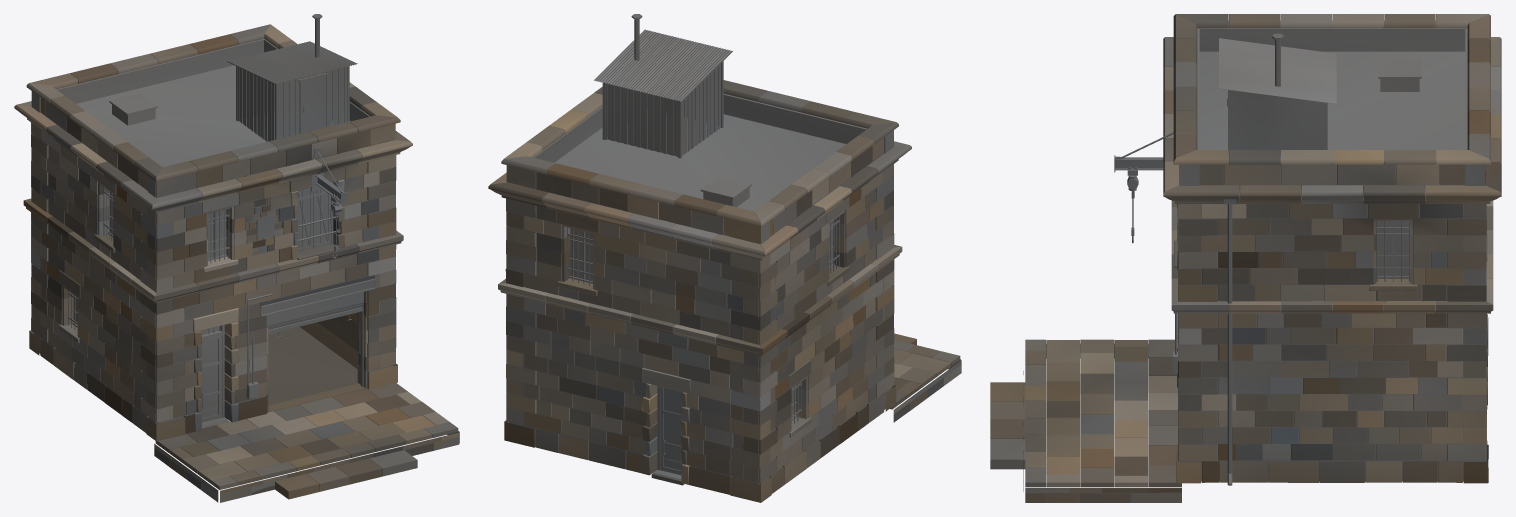
Rendered from Salvage_LOD1.glb.
The picture shows the model from 3 angles, left to right: view 1: azimuth 30°, elevation 25°; view 2: azimuth 150°, elevation 25°; view 3: azimuth 270°, elevation 25°; orthographic projection. The views are drawn at different scales.
Visible parts, largest first — view 1: Salvage_Masonry_LOD1, Salvage_Trim_LOD1, Salvage_Porch_LOD1, Salvage_Metal_LOD1, Salvage_Roof_LOD1, Salvage_InteriorFloor_LOD1, Salvage_InteriorMasonry_LOD1, Salvage_Glass_LOD1; view 2: Salvage_Masonry_LOD1, Salvage_Trim_LOD1, Salvage_Roof_LOD1, Salvage_Metal_LOD1, Salvage_Porch_LOD1, Salvage_Glass_LOD1; view 3: Salvage_Masonry_LOD1, Salvage_Trim_LOD1, Salvage_Porch_LOD1, Salvage_Roof_LOD1, Salvage_Metal_LOD1, Salvage_Glass_LOD1.
Boxes of the visible parts, left/top/right/bottom form: Salvage_Masonry_LOD1: left=29, top=38, right=397, bottom=441; Salvage_Trim_LOD1: left=14, top=24, right=412, bottom=431; Salvage_Porch_LOD1: left=154, top=383, right=459, bottom=502; Salvage_Metal_LOD1: left=68, top=14, right=375, bottom=426; Salvage_Roof_LOD1: left=76, top=41, right=357, bottom=167; Salvage_InteriorFloor_LOD1: left=225, top=326, right=358, bottom=418; Salvage_InteriorMasonry_LOD1: left=300, top=312, right=360, bottom=383; Salvage_Glass_LOD1: left=73, top=191, right=226, bottom=334; Salvage_Masonry_LOD1: left=504, top=93, right=896, bottom=502; Salvage_Trim_LOD1: left=488, top=80, right=911, bottom=484; Salvage_Roof_LOD1: left=554, top=29, right=846, bottom=211; Salvage_Metal_LOD1: left=551, top=14, right=839, bottom=479; Salvage_Porch_LOD1: left=651, top=333, right=961, bottom=485; Salvage_Glass_LOD1: left=552, top=193, right=832, bottom=415; Salvage_Masonry_LOD1: left=1176, top=21, right=1488, bottom=483; Salvage_Trim_LOD1: left=1163, top=14, right=1501, bottom=404; Salvage_Porch_LOD1: left=990, top=339, right=1181, bottom=502; Salvage_Roof_LOD1: left=1199, top=38, right=1465, bottom=153; Salvage_Metal_LOD1: left=1114, top=33, right=1412, bottom=485; Salvage_Glass_LOD1: left=1376, top=220, right=1410, bottom=276.
Size of the model in its own units: 8.46 by 11.24 by 11.73.
